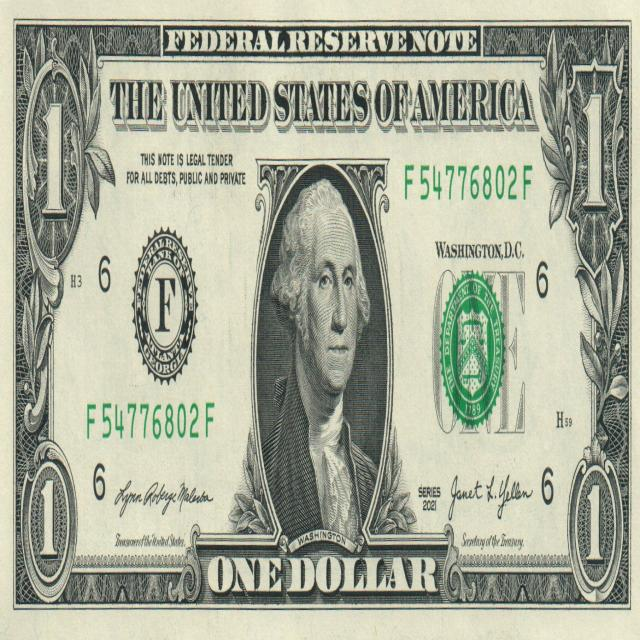SerialNumber: (405, 165, 532, 200), (102, 403, 214, 439)
